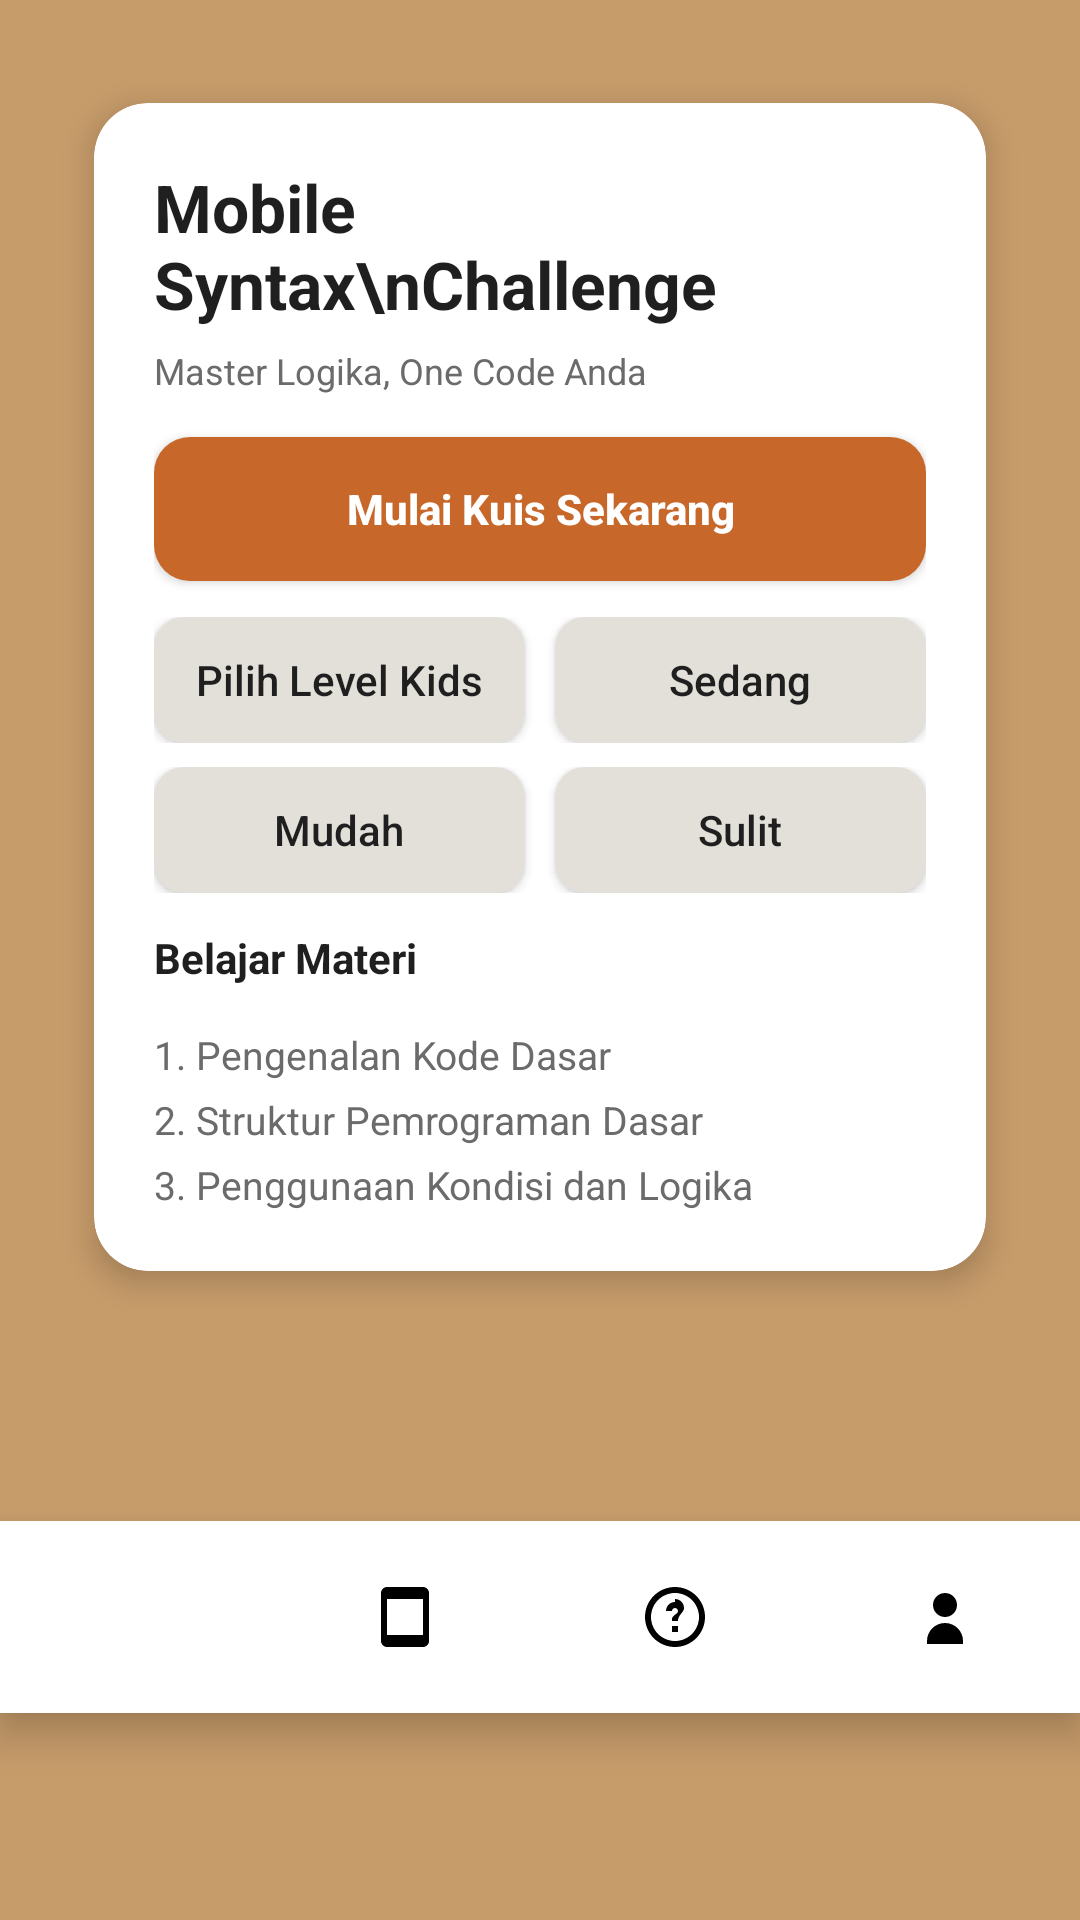

Icons on this 1080 x 1920 Android screen, each with the point to tap as [x,y]:
Kuis: [675,1617]
Profil: [945,1618]
